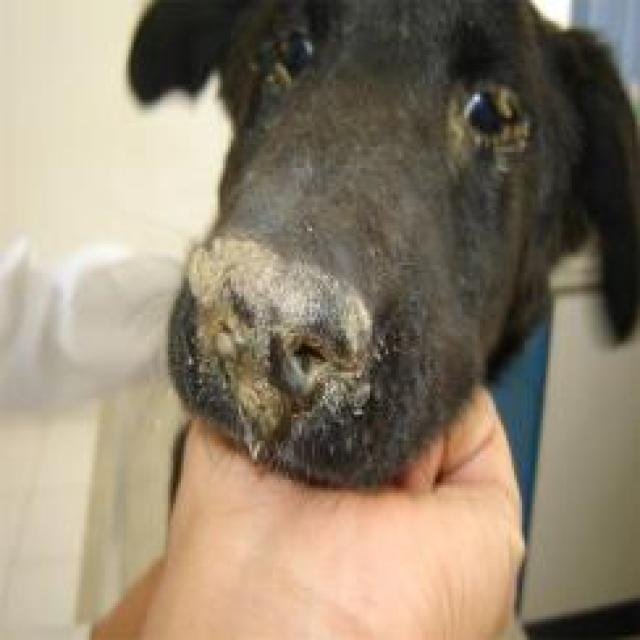fungal infection: (181, 242, 289, 360), (291, 268, 370, 407), (447, 77, 531, 175), (234, 377, 284, 459), (254, 54, 300, 91)
